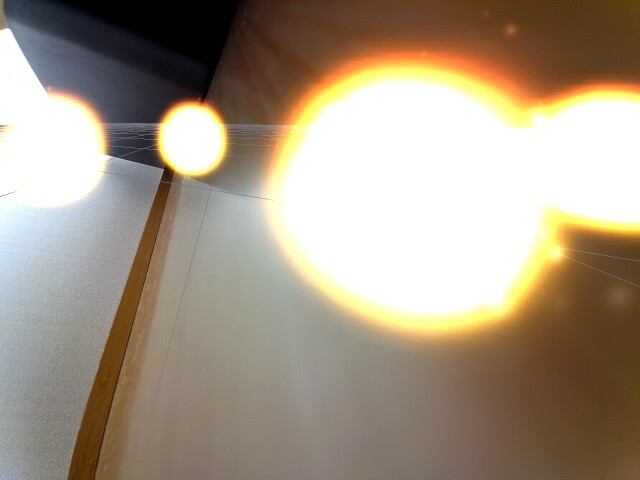firebig: (257, 63, 538, 343)
